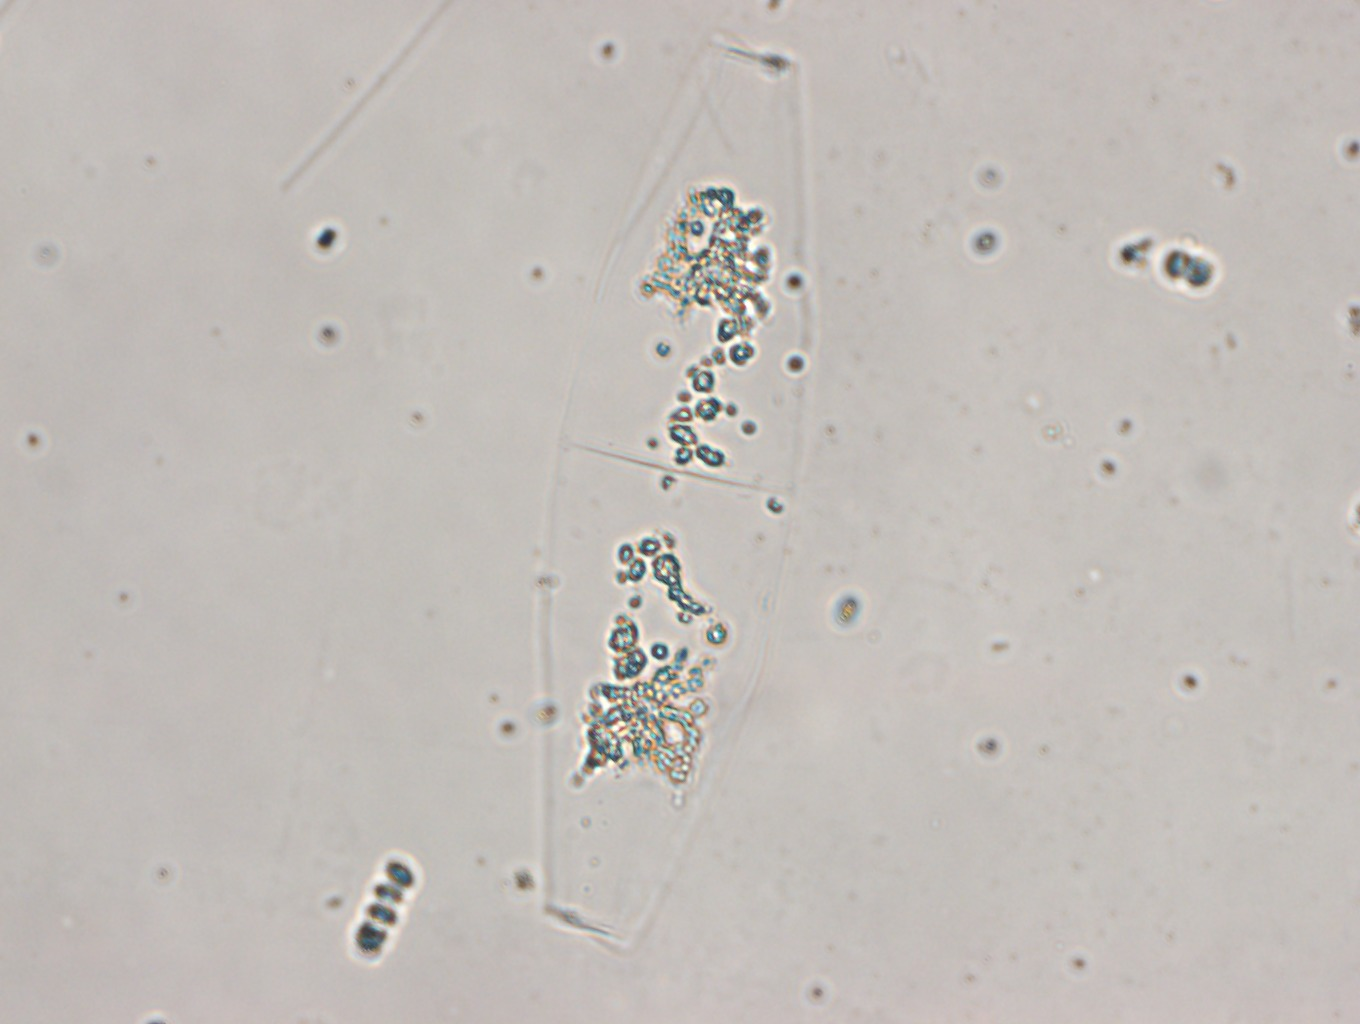helicotheca: (543, 35, 810, 958)
skeletonema: (343, 857, 415, 959)
